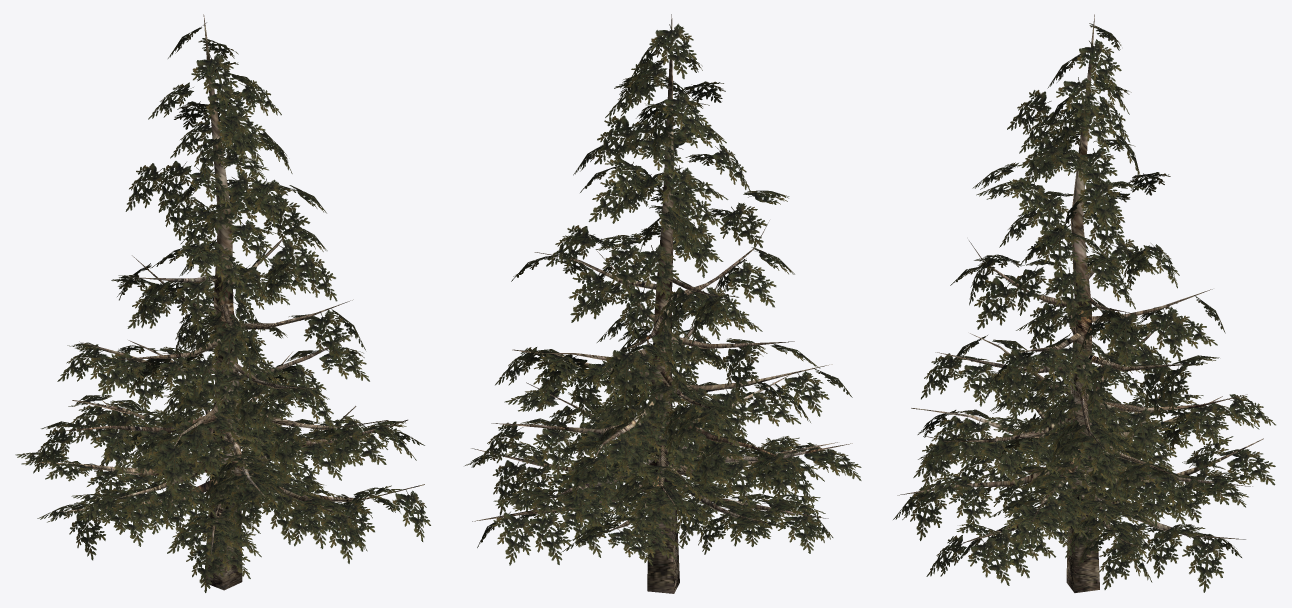
The model's file is pine_tree_single_02.fbx.
The picture shows the model from 3 angles, left to right: view 1: azimuth 30°, elevation 25°; view 2: azimuth 150°, elevation 25°; view 3: azimuth 270°, elevation 25°; orthographic projection. The views are drawn at different scales.
Visible parts, largest first — view 1: group47, tree; view 2: group47, tree; view 3: group47, tree.
Part boxes in pixels (bbox=[...]): group47: bbox=[15, 22, 430, 592]; tree: bbox=[26, 14, 424, 590]; group47: bbox=[465, 23, 861, 565]; tree: bbox=[471, 14, 852, 593]; group47: bbox=[893, 23, 1275, 592]; tree: bbox=[897, 14, 1263, 592].
Bounding box in the file's own units: 718 × 1124 × 695.
